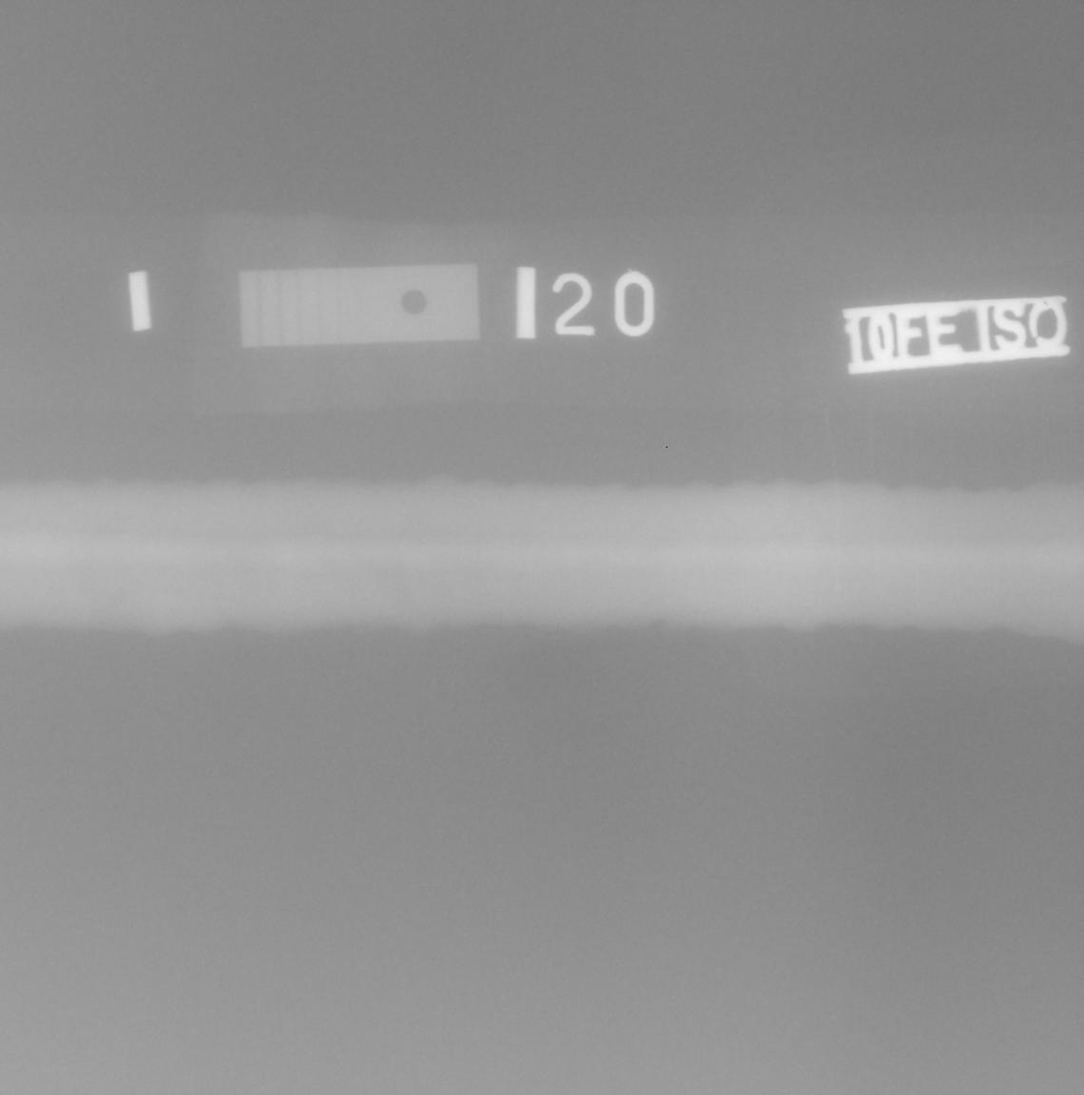Pore/Porosity: (968, 588, 971, 593)
Reference Standard 1: (239, 263, 480, 347)
